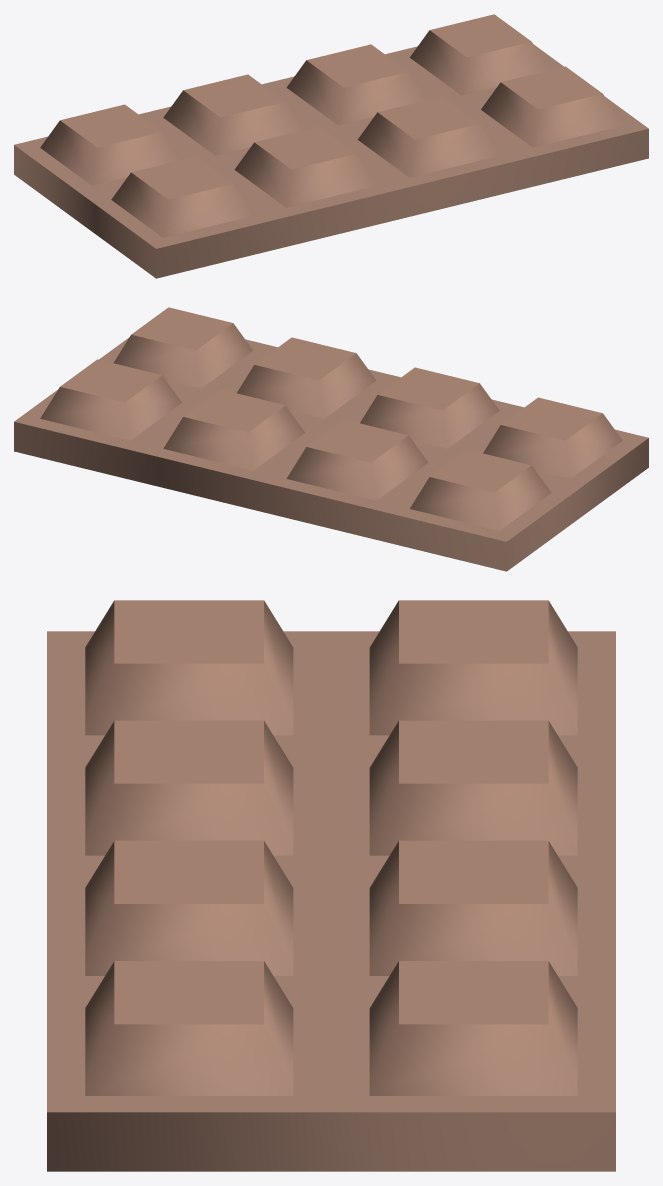
Rendered from chocolate.glb.
The picture shows the model from 3 angles, top to bottom: view 1: azimuth 30°, elevation 25°; view 2: azimuth 150°, elevation 25°; view 3: azimuth 270°, elevation 25°; orthographic projection. The views are drawn at different scales.
Visible parts, largest first — view 1: chocolate; view 2: chocolate; view 3: chocolate.
Part boxes in pixels (<box>): chocolate: <box>14,14,648,278</box>; chocolate: <box>14,307,648,571</box>; chocolate: <box>47,600,615,1171</box>.
Bounding box in the file's own units: 0.2924 × 0.0337 × 0.1462.
